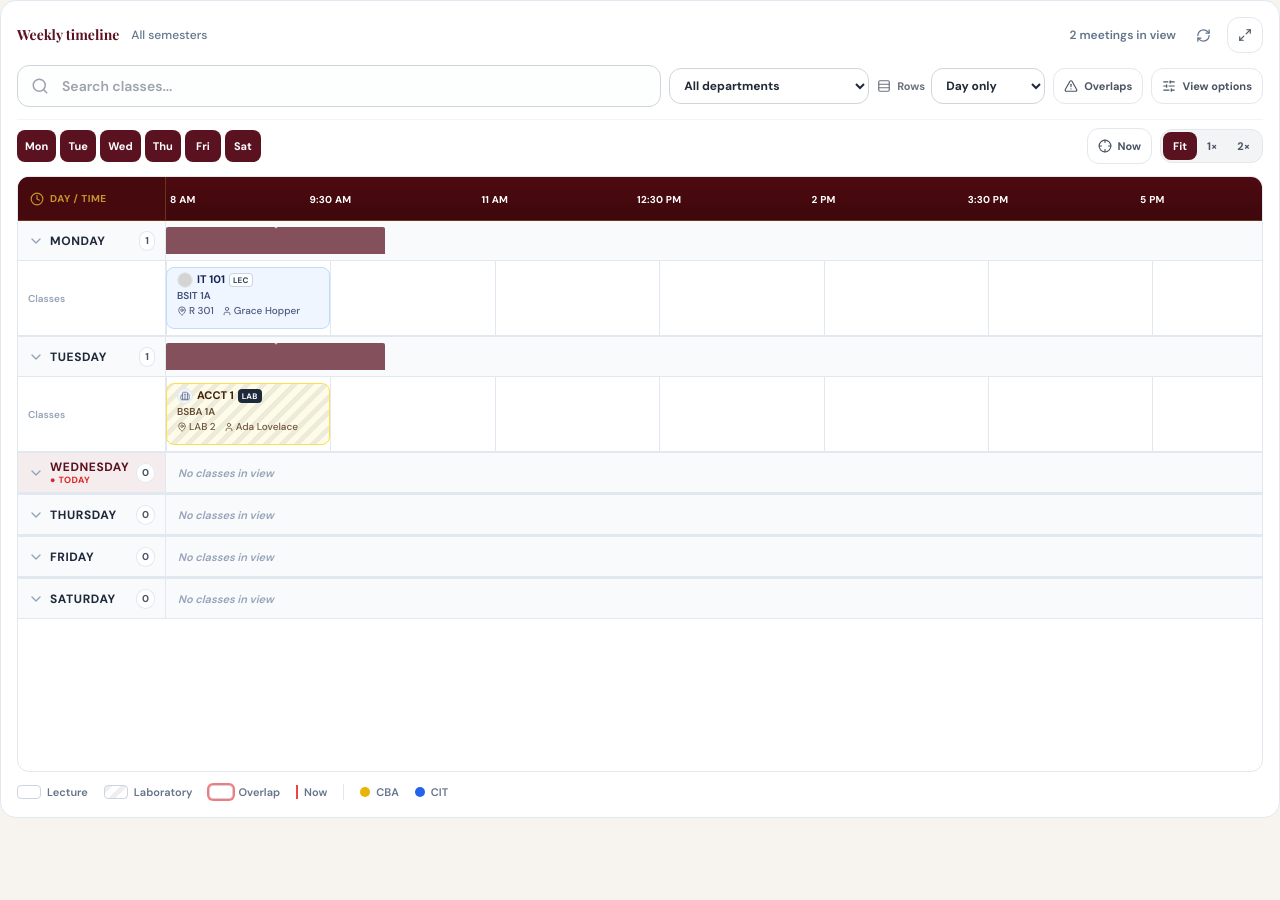
Test: VpaaCalendarPage Gantt timeline › follows the standard hours from settings rather than a hardcoded window
The image size is (1280, 900).
Click the button "View options".
click(1207, 86)  # box [1151,68,1263,104]
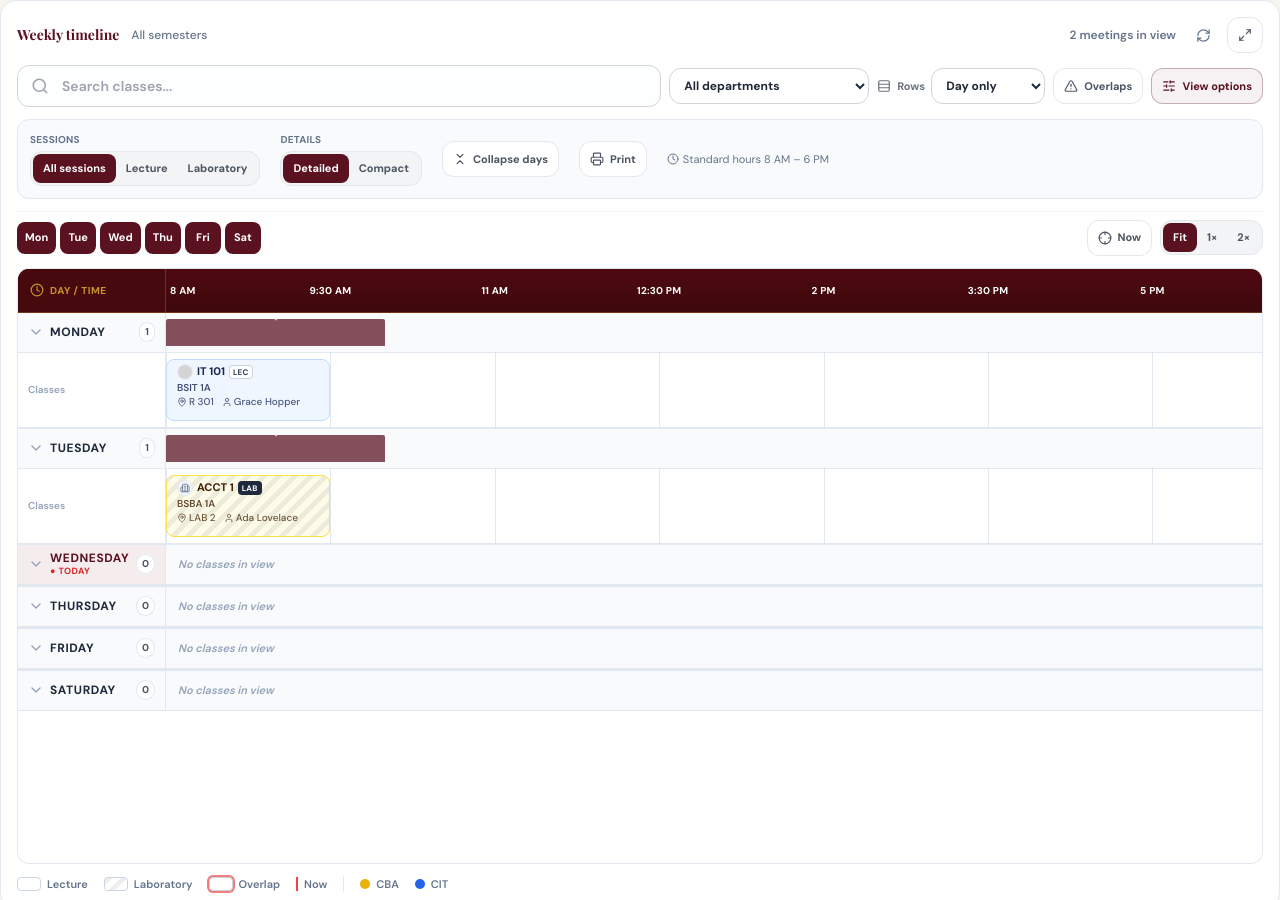
Check: the text "Standard hours 8 AM – 6 PM" is shown, box [667,150,829,167]
